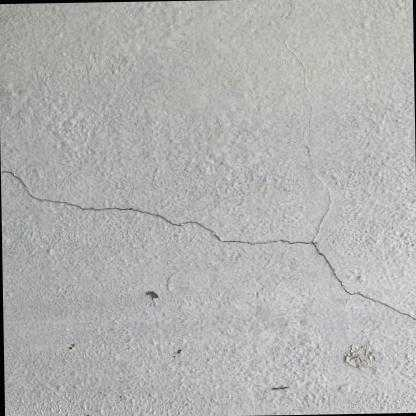crack: (2, 171, 416, 321)
